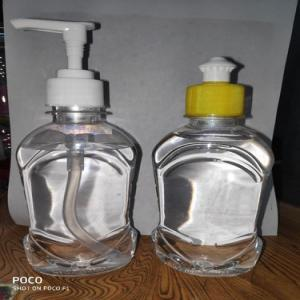Plastic-bottle: (149, 57, 281, 278), (16, 76, 144, 281)
